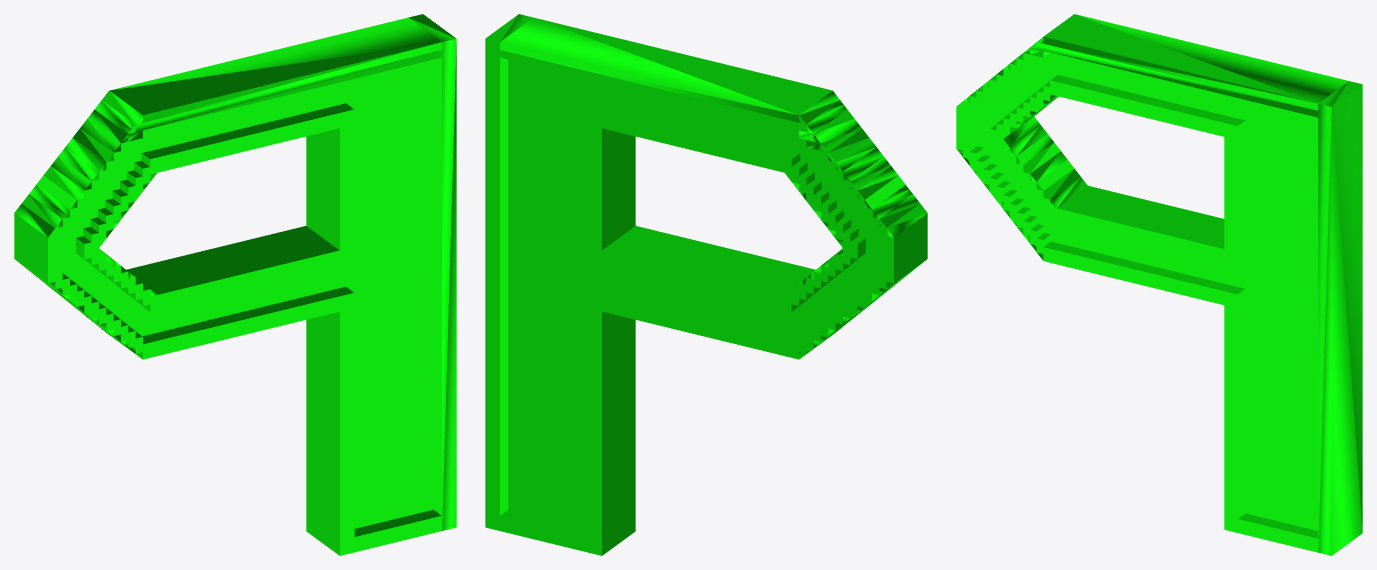
The picture shows the model from 3 angles, left to right: view 1: azimuth 30°, elevation 25°; view 2: azimuth 150°, elevation 25°; view 3: azimuth 330°, elevation 25°; orthographic projection. The views are drawn at different scales.
Parts seen in each view (by area): view 1: generated; view 2: generated; view 3: generated.
Boxes of the visible parts, bbox=[...] form: generated: bbox=[14, 14, 456, 555]; generated: bbox=[485, 14, 927, 555]; generated: bbox=[956, 14, 1362, 555].
Bounding box in the file's own units: 560 × 640 × 80.
